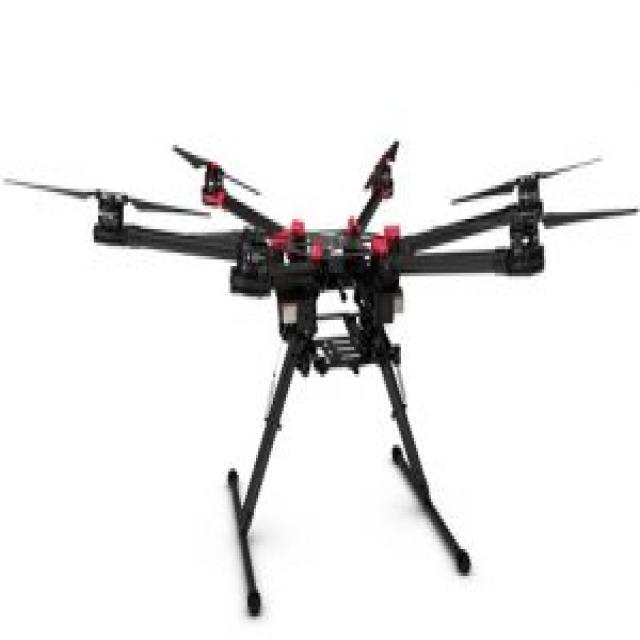drone: (36, 132, 620, 615)
